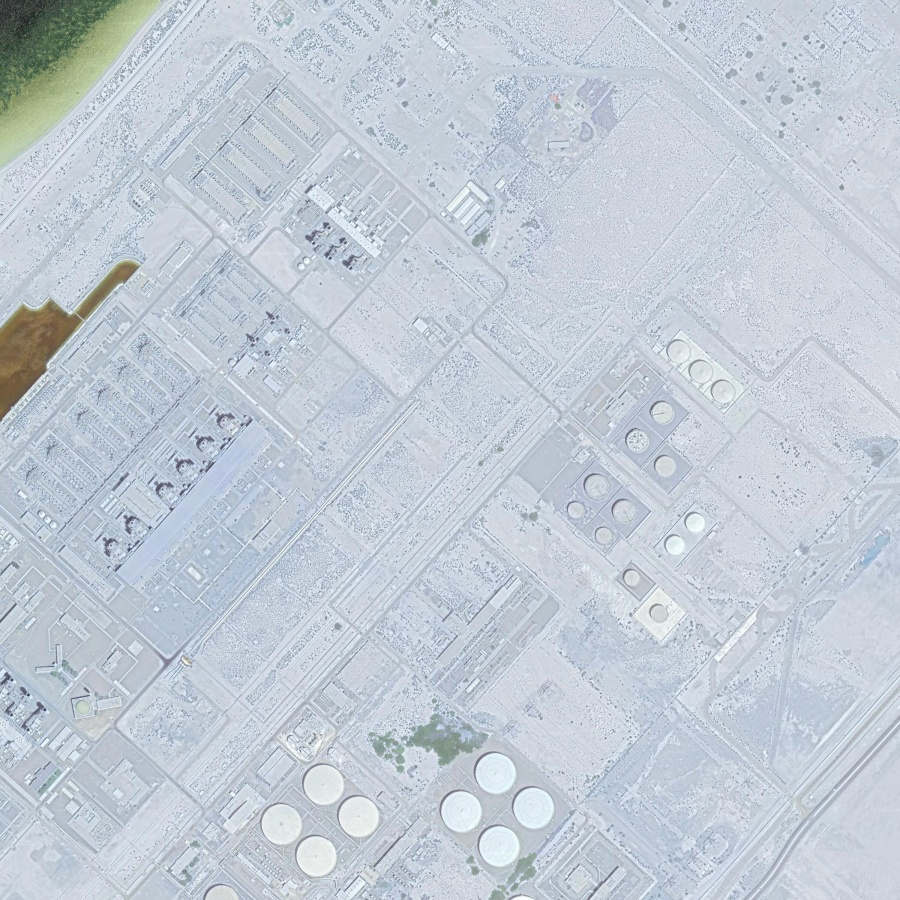PowerPlant: (555, 333, 767, 630)
